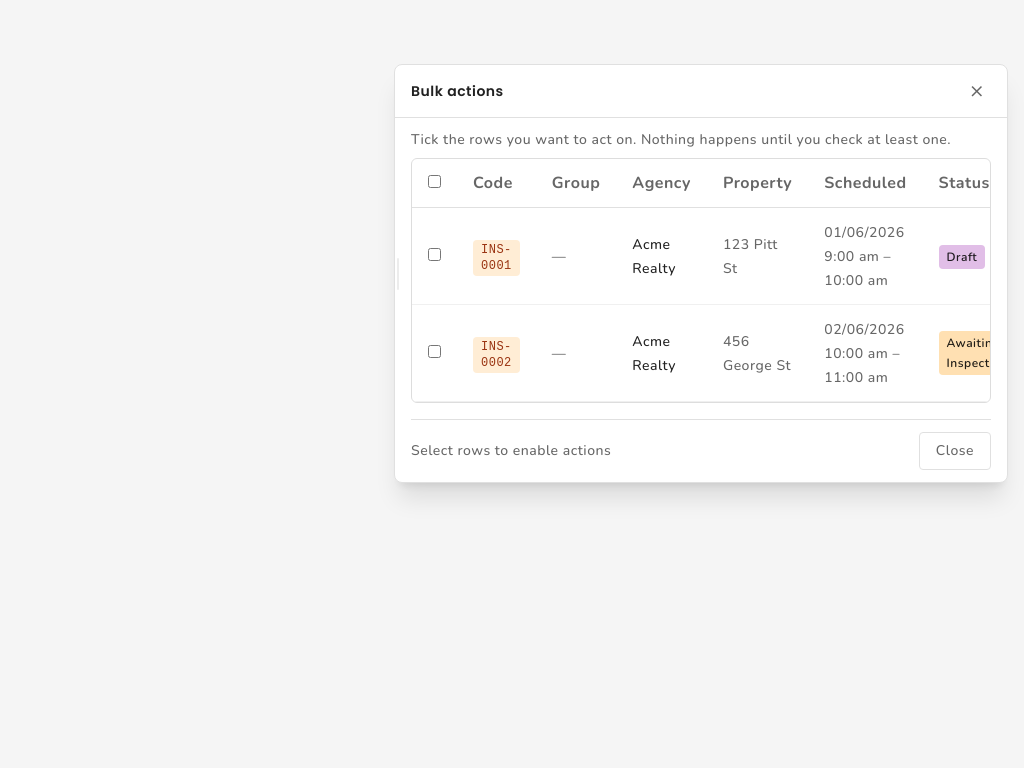
Scenario: MapBulkActionModal › footer state matrix flips from "Select rows…" to "N of M selected"
expect the element with test id "bulk-modal-footer" shows "Select rows to enable actions": met, box [411,441,611,460]
Click the checkbox named "Select INS-0001".
click(434, 254)  # box [428,248,441,261]
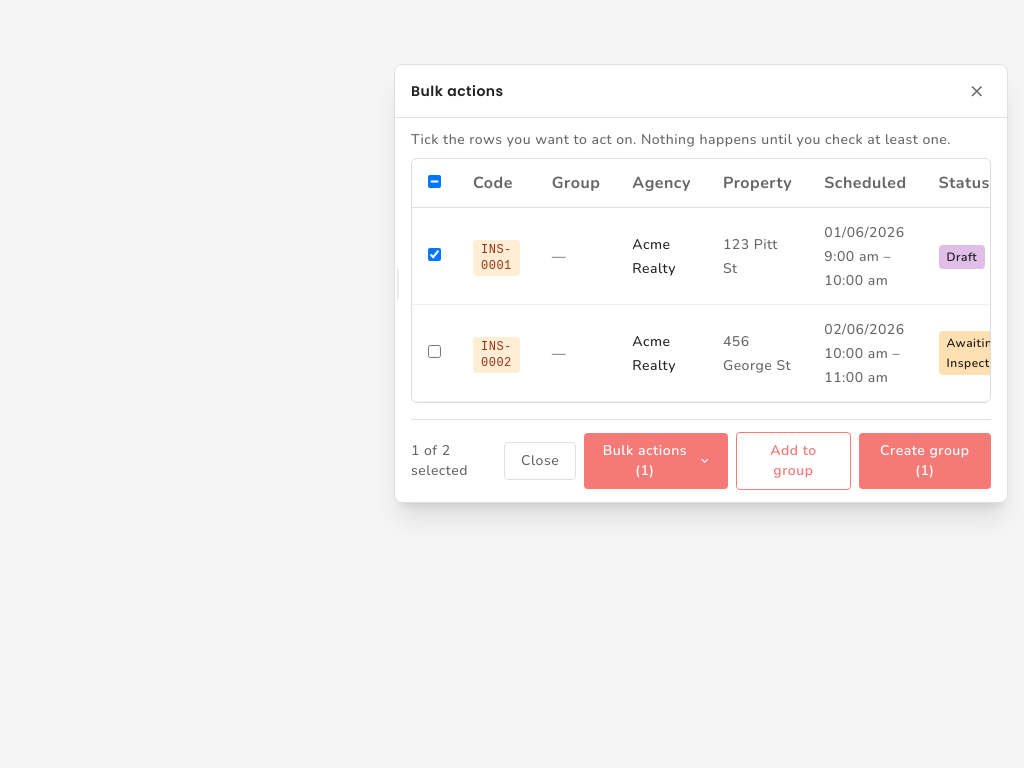
expect the element with test id "bulk-modal-footer" shows "1 of 2 selected": met, box [411,441,468,480]
